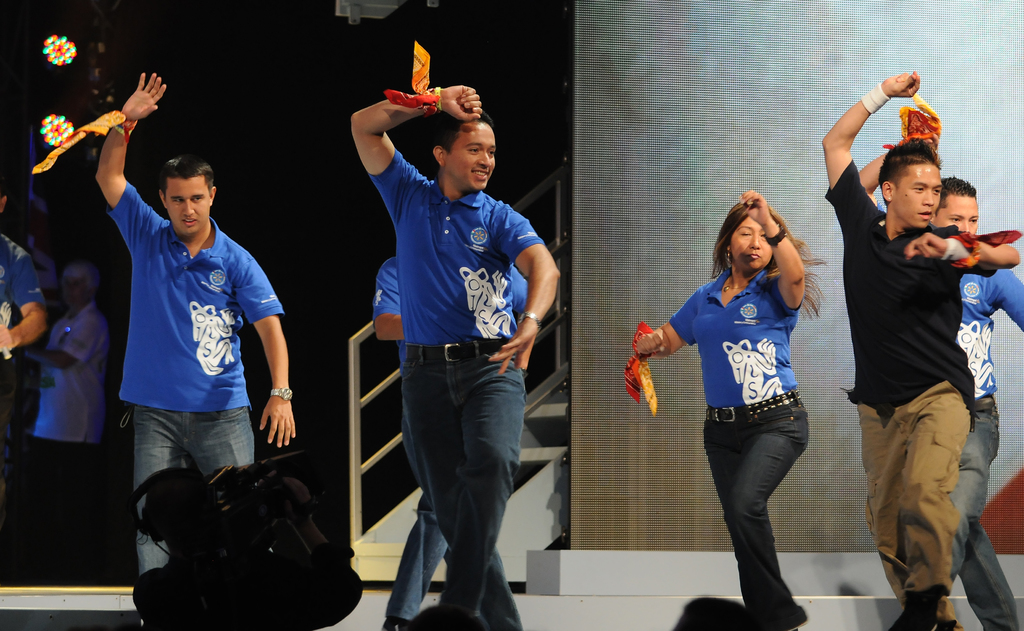Footwear: (381, 615, 408, 629)
